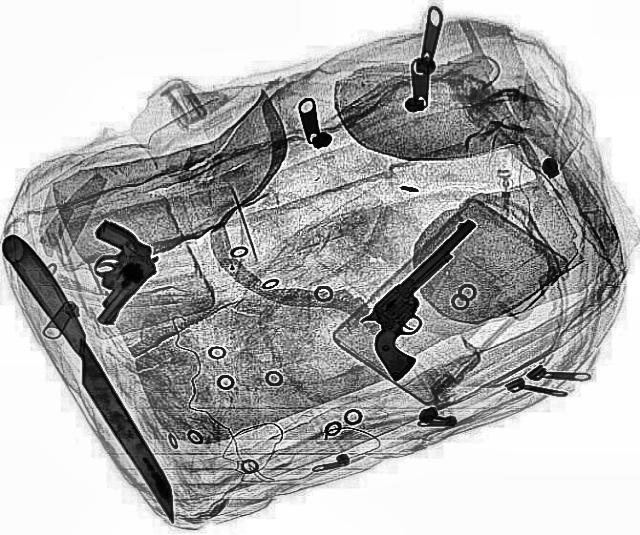Gun: (328, 217, 532, 381), (40, 218, 174, 328)
Knife: (0, 235, 192, 525)
